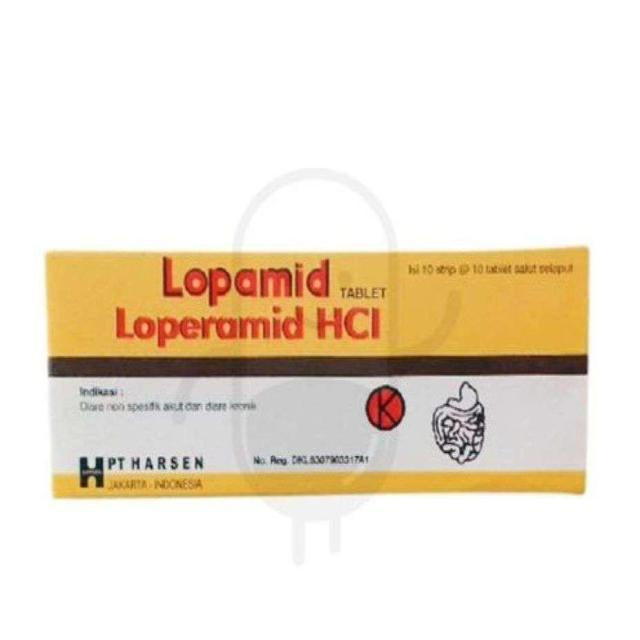drug-name: (156, 255, 338, 309)
